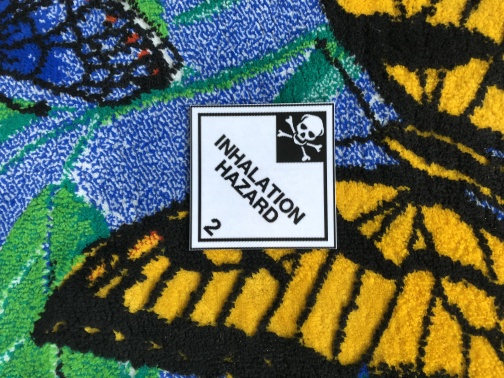InhalationHazard: (189, 103, 339, 249)
